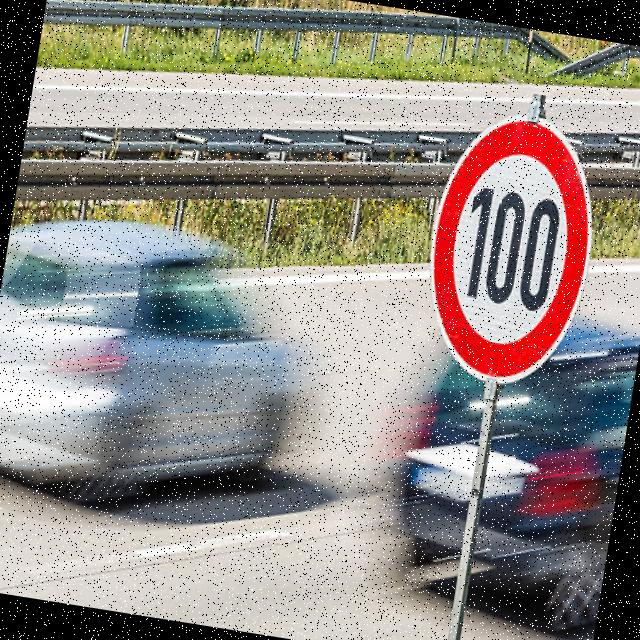speed_limit_100: (403, 92, 616, 401)
